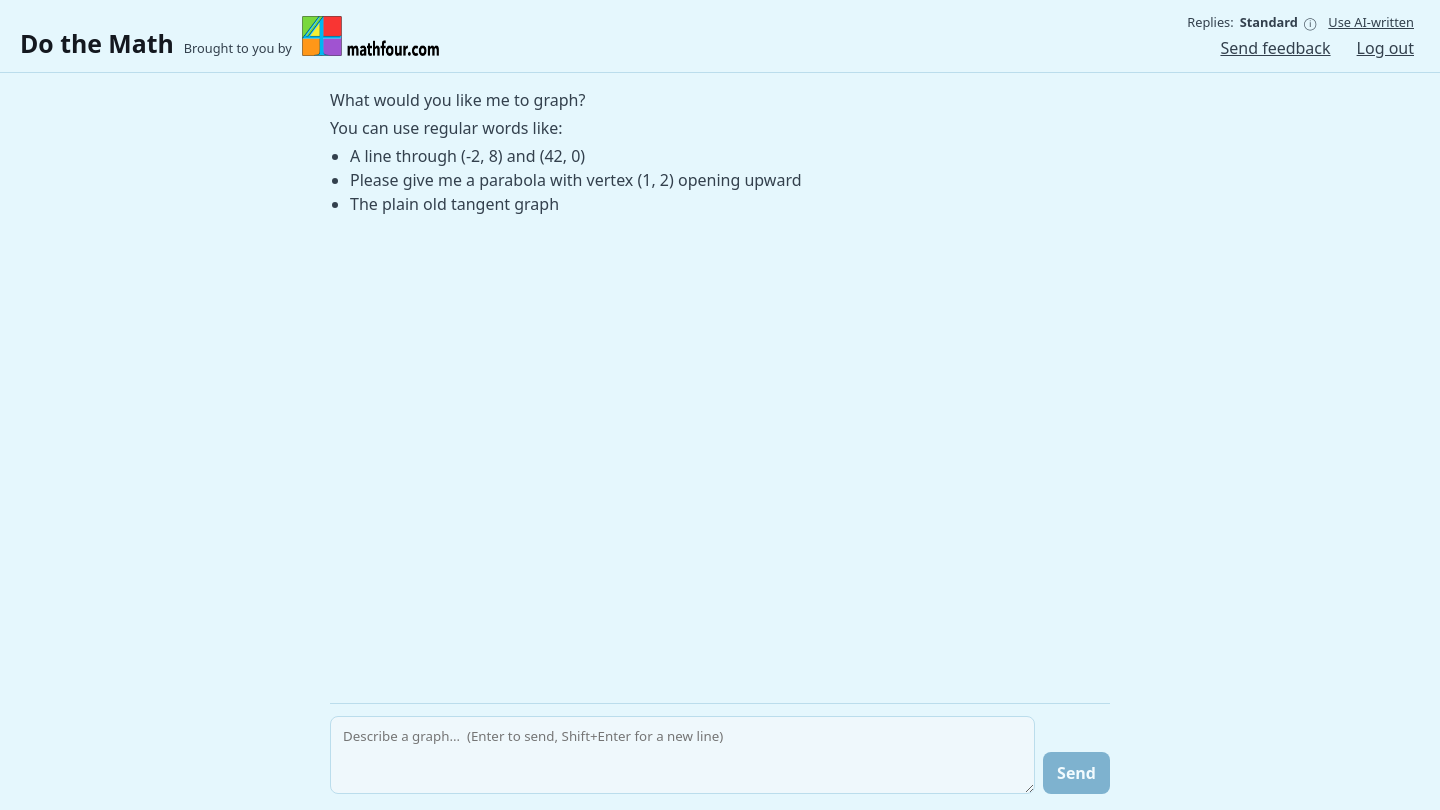
Scenario: App key gate › opens the branded feedback screen from the header, then returns
The image size is (1440, 810).
Click the button "Send feedback" at (1275, 48), box 1214,36 -> 1336,60
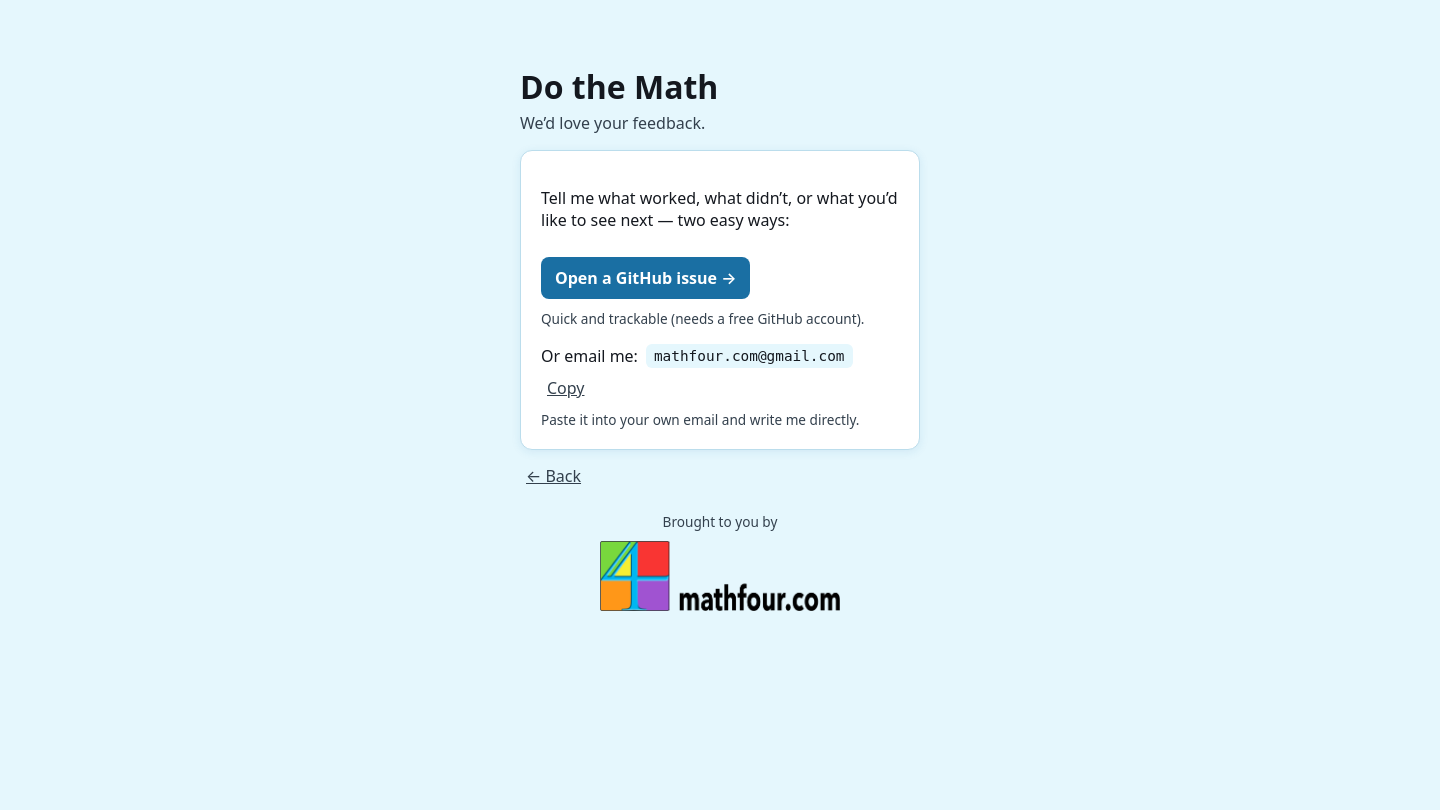
Result: the text "mathfour.com@gmail.com" is shown at 646,344 -> 852,368
Click the button "← Back" at (554, 476), box 520,464 -> 587,488
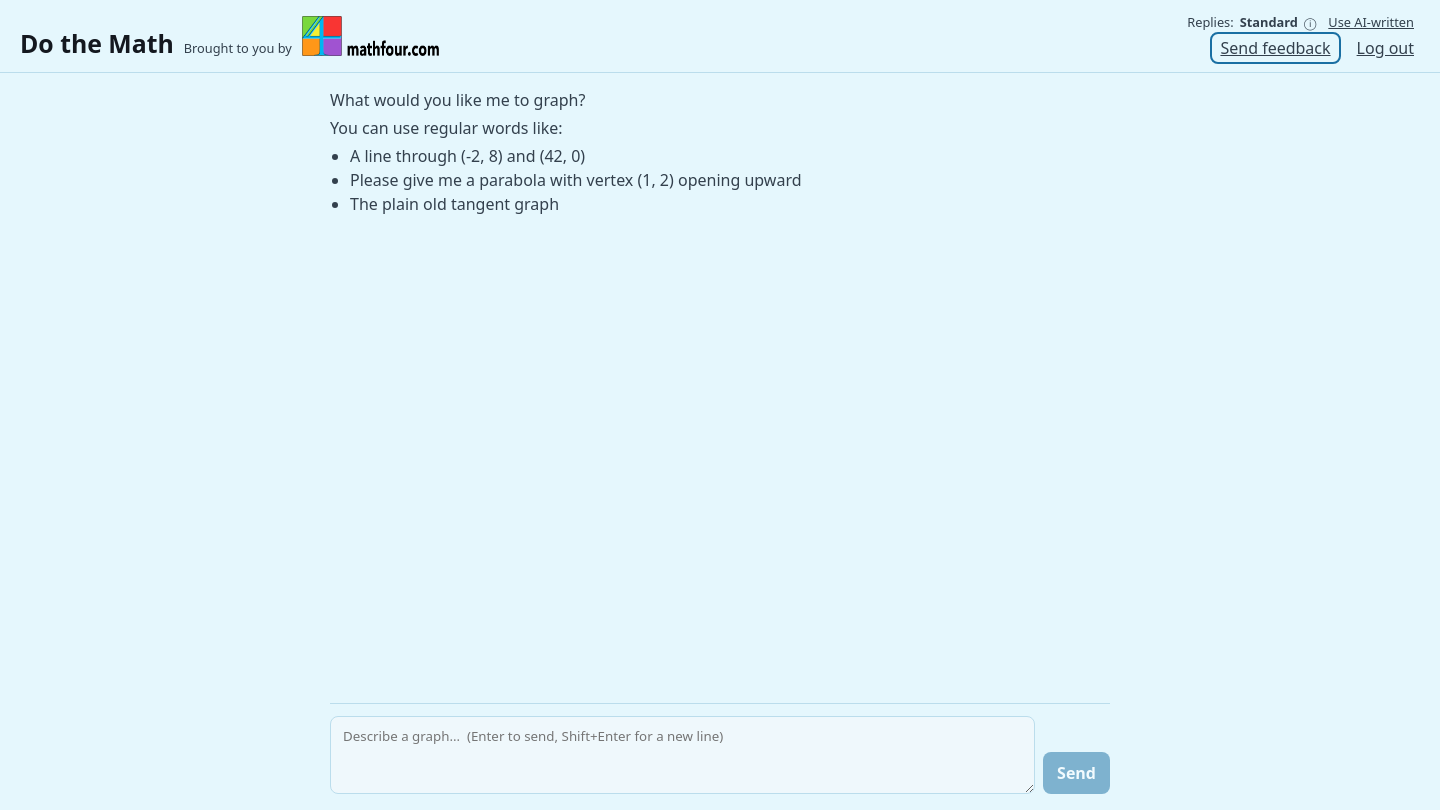
Result: the text box labelled "Describe a graph" is shown at 330,716 -> 1035,794
